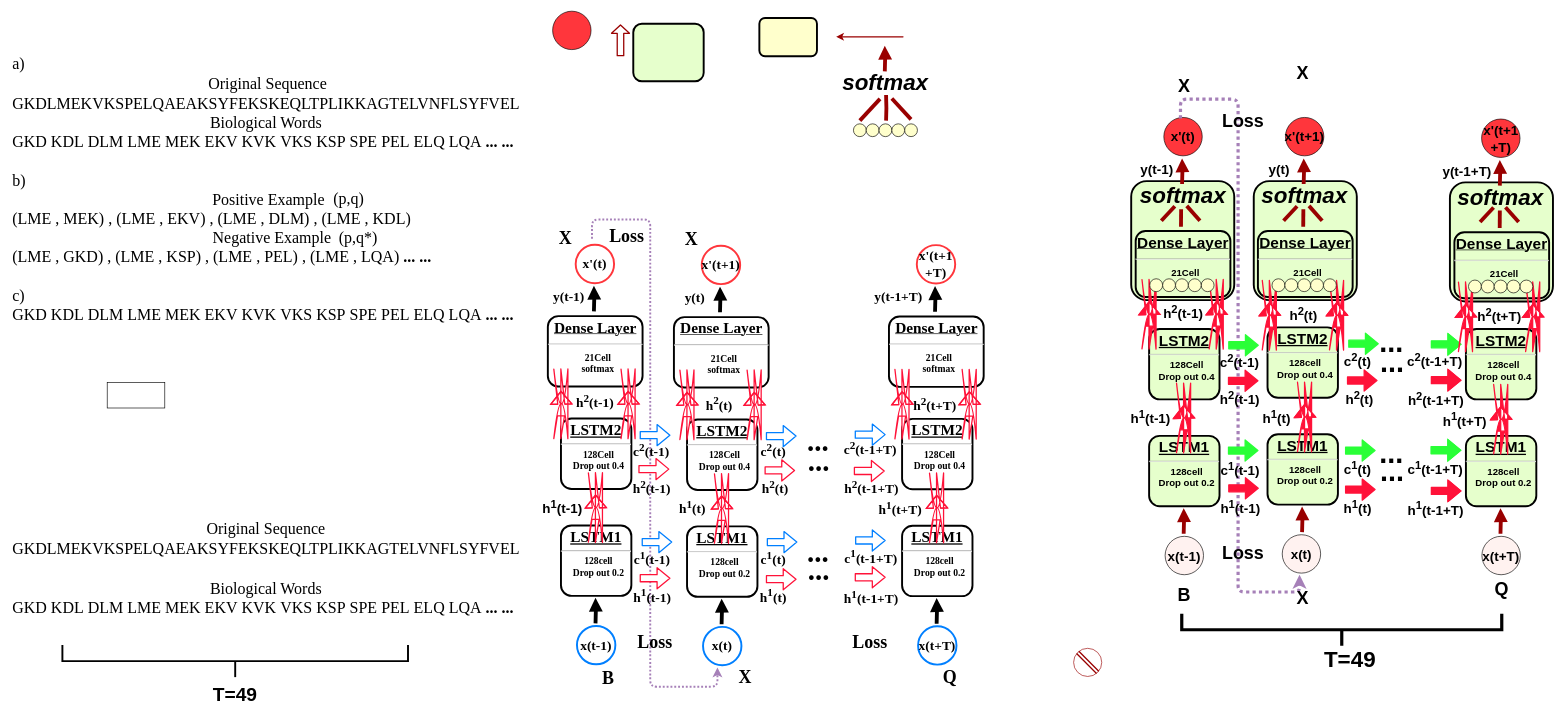
Image size: 1565x717. Some labels were removed from this diagram. Here are the shapes that lost their labels. From the top down, the centre of each, then its label:
At (x=571, y=30): "h(t)".
At (x=788, y=37): "Engin esering".
At (x=668, y=52): "Process 7 New System Startup and Testing".
